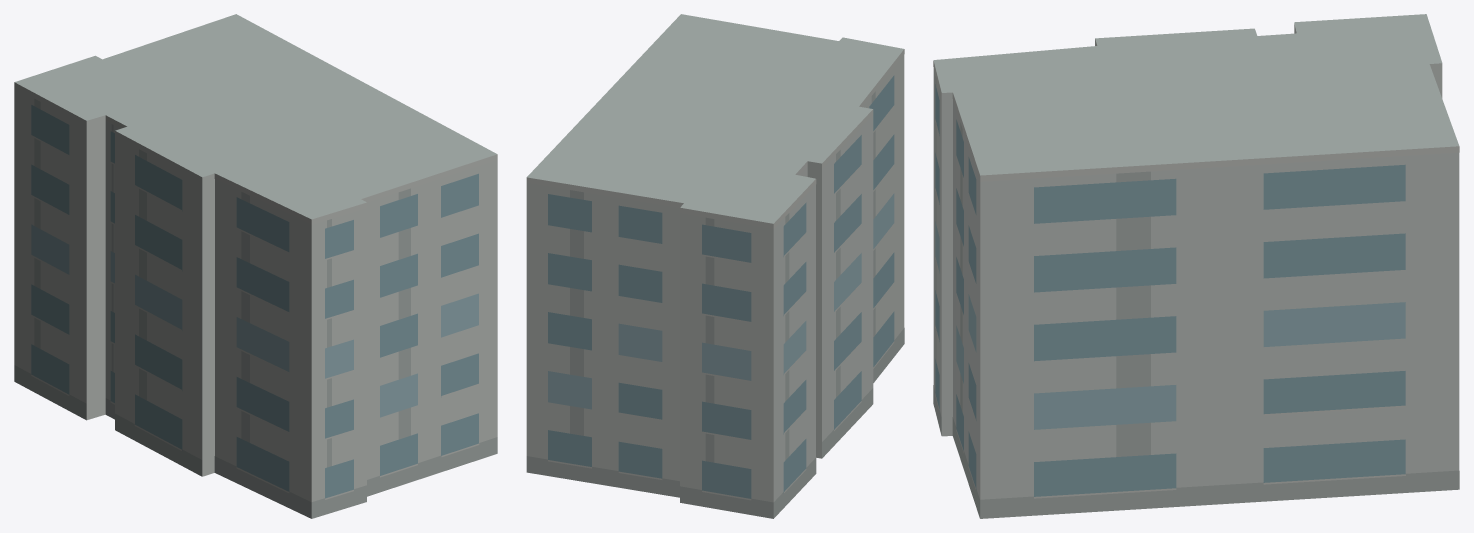
Rendered from survey-upis-32889314.glb.
3 views of the same model, side by side, from view 1: azimuth 30°, elevation 25°; view 2: azimuth 150°, elevation 25°; view 3: azimuth 270°, elevation 25° (orthographic). The views are drawn at different scales.
Visible parts, largest first — view 1: survey-upis-32889314.tmp; view 2: survey-upis-32889314.tmp; view 3: survey-upis-32889314.tmp.
Boxes of the visible parts, <box> form: survey-upis-32889314.tmp: <box>14,14,497,518</box>; survey-upis-32889314.tmp: <box>526,14,904,518</box>; survey-upis-32889314.tmp: <box>933,14,1459,518</box>.
Size of the model in its own units: 13.12 by 13 by 18.06.
